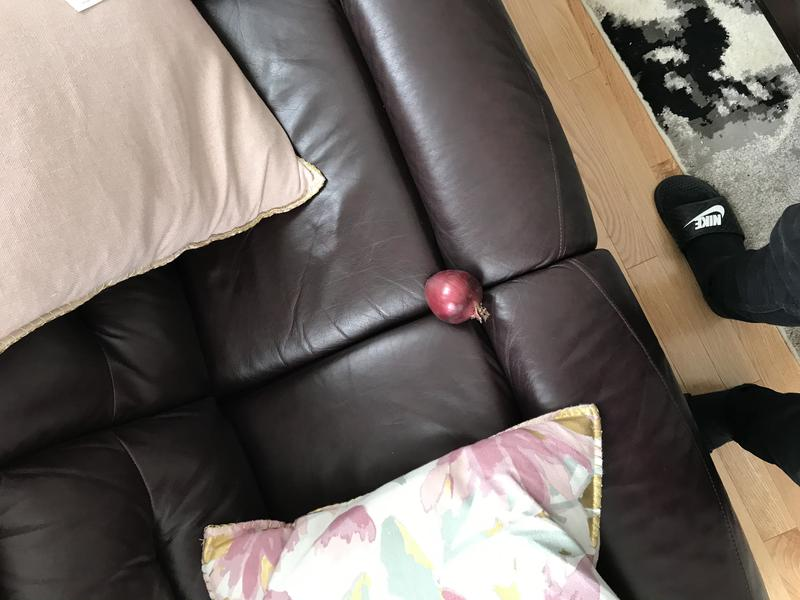purple_onion: (416, 262, 495, 332)
